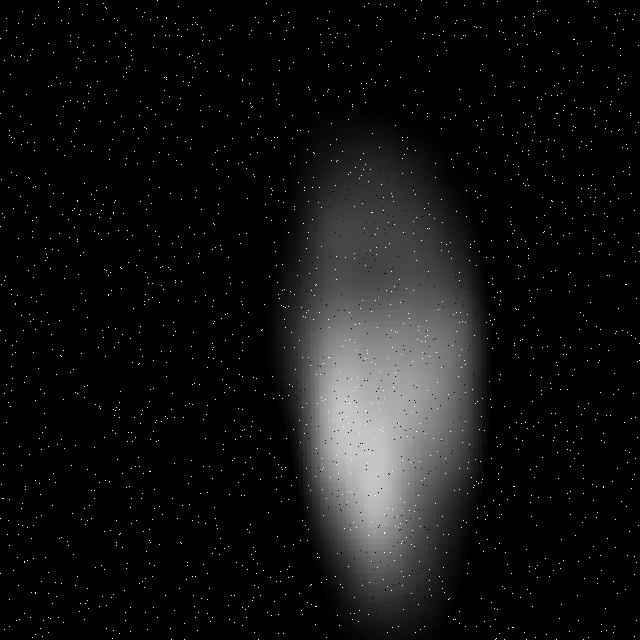person: (243, 120, 568, 640)
